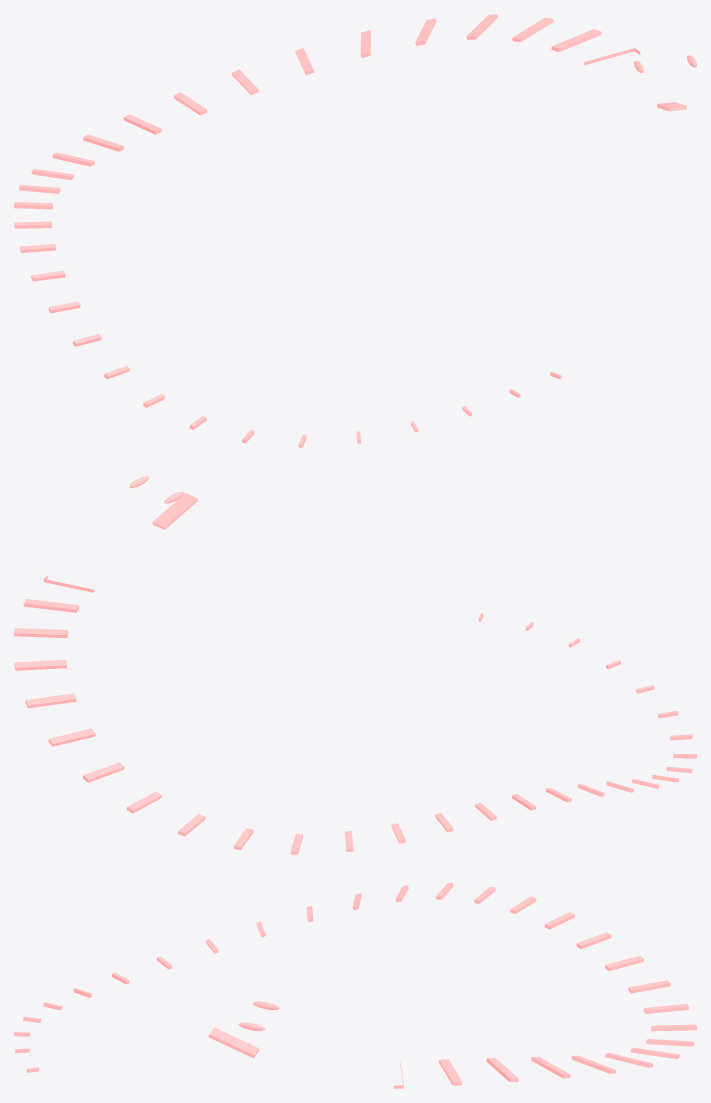
The model's file is RedDepth_Glow.fbx.
3 views of the same model, one above another, from view 1: azimuth 30°, elevation 25°; view 2: azimuth 150°, elevation 25°; view 3: azimuth 270°, elevation 25° (orthographic). The views are drawn at different scales.
Parts seen in each view (by area): view 1: RD_Glow; view 2: RD_Glow; view 3: RD_Glow.
Part boxes in pixels (x1=…): RD_Glow: x1=14, y1=14, x2=696, y2=447; RD_Glow: x1=14, y1=476, x2=696, y2=854; RD_Glow: x1=14, y1=883, x2=696, y2=1088.
Size of the model in its own units: 929 by 298 by 949.
